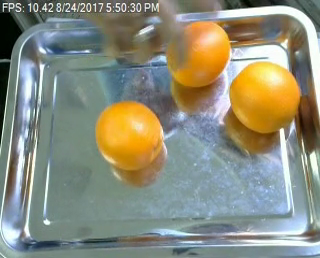Orange: (230, 60, 301, 136), (94, 101, 164, 171)
